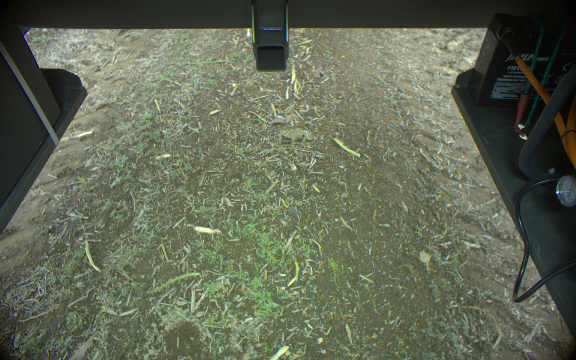aspa: (148, 272, 201, 294), (330, 135, 360, 159), (84, 239, 102, 273), (286, 259, 300, 286), (268, 344, 290, 360), (290, 61, 296, 86)
